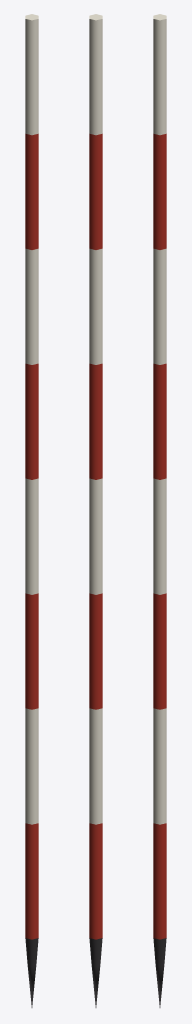
Rendered from ranging_pole.glb.
The picture shows the model from 3 angles, left to right: view 1: azimuth 30°, elevation 25°; view 2: azimuth 150°, elevation 25°; view 3: azimuth 330°, elevation 25°; orthographic projection.
Parts seen in each view (by area): view 1: ranging_pole; view 2: ranging_pole; view 3: ranging_pole.
Part boxes in pixels (x1,y1,x2,y2): ranging_pole: (25,14,38,1007); ranging_pole: (89,14,102,1007); ranging_pole: (153,14,166,1007).
Size of the model in its own units: 0.03 by 2.16 by 0.026.
